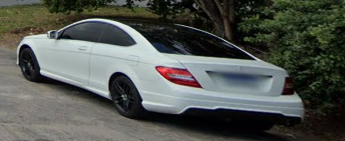car: (17, 17, 305, 136)
